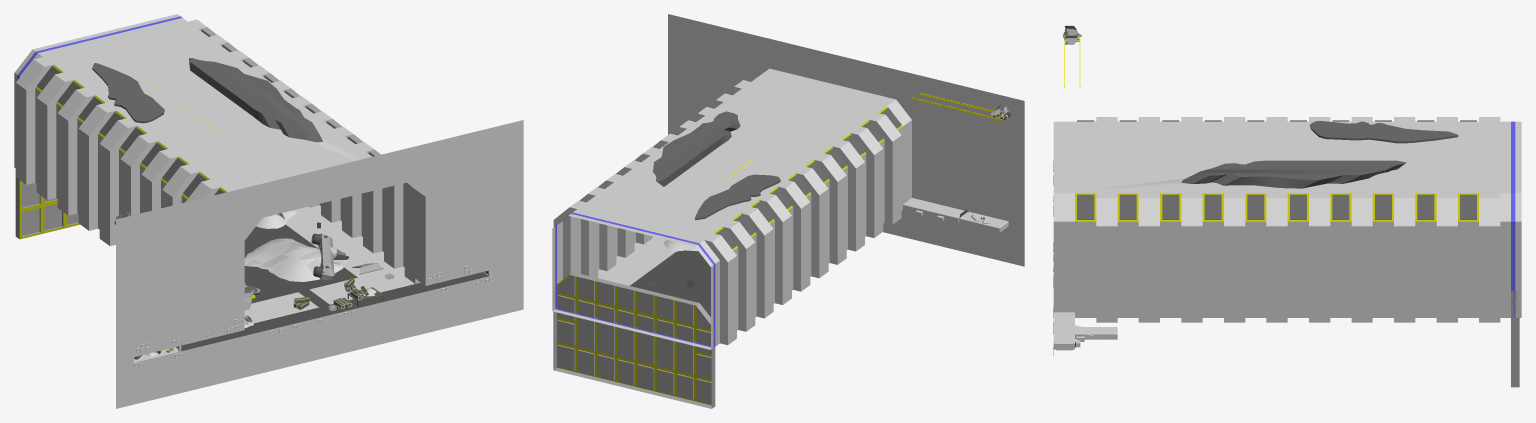
Rendered from Hangar.glb.
3 renders of one model, left to right at view 1: azimuth 30°, elevation 25°; view 2: azimuth 150°, elevation 25°; view 3: azimuth 270°, elevation 25°, orthographic. The views are drawn at different scales.
Parts seen in each view (by area): view 1: _G-Object (Loose Mesh), C-Group#19.012, C-Group#19.013, C-Group#19.006, C-Group#19.005, C-Group#19.015, C-Group47#2.003, C-Group#19, C-Group#19.004, C-Group#19.017, C-Group#19.010, G-Object.023 (+5 smaller); view 2: _G-Object (Loose Mesh), C-Group#19.011, C-Group#19.004, C-Group#19.013, C-Group#19.015, C-Group#19.005, C-Group#19.012, C-Group#19.016, C-Group#19.006, C-Group#19.010, C-Group#19.001, C-Group#14.004 (+12 smaller); view 3: _G-Object (Loose Mesh), C-Group#19.003, C-Group#19.009, C-Group#19.014, C-Group#19, C-Group#19.007, C-Group#19.008, C-Group#19.017, C-Group#19.018, C-Group#19.019, C-Group#19.002, _G-Object.022 (Loose Mesh).
Part boxes in pixels (box(x1,y1,x2,y2)): _G-Object (Loose Mesh): box(14, 14, 523, 408); C-Group#19.012: box(57, 90, 105, 215); C-Group#19.013: box(36, 75, 84, 200); C-Group#19.006: box(78, 105, 126, 230); C-Group#19.005: box(16, 59, 63, 184); C-Group#19.015: box(99, 120, 147, 245); C-Group47#2.003: box(244, 238, 347, 281); C-Group#19: box(394, 182, 415, 283); C-Group#19.004: box(120, 136, 168, 216); C-Group#19.017: box(366, 149, 394, 268); C-Group#19.010: box(141, 151, 188, 212); G-Object.023: box(19, 180, 42, 239); _G-Object (Loose Mesh): box(552, 14, 1024, 349); C-Group#19.011: box(851, 119, 884, 237); C-Group#19.004: box(796, 160, 829, 278); C-Group#19.013: box(723, 213, 756, 331); C-Group#19.015: box(778, 173, 811, 291); C-Group#19.005: box(704, 227, 738, 345); C-Group#19.012: box(741, 200, 774, 318); C-Group#19.016: box(869, 106, 902, 224); C-Group#19.006: box(759, 186, 793, 304); C-Group#19.010: box(814, 146, 847, 264); C-Group#19.001: box(832, 133, 866, 251); C-Group#14.004: box(596, 281, 616, 381); _G-Object (Loose Mesh): box(1053, 117, 1521, 350); C-Group#19.003: box(1202, 193, 1245, 322); C-Group#19.009: box(1372, 193, 1415, 322); C-Group#19.014: box(1287, 193, 1330, 322); C-Group#19: box(1075, 193, 1117, 322); C-Group#19.007: box(1245, 193, 1287, 322); C-Group#19.008: box(1415, 193, 1457, 322); C-Group#19.017: box(1117, 193, 1159, 322); C-Group#19.018: box(1160, 193, 1202, 322); C-Group#19.019: box(1330, 193, 1372, 322); C-Group#19.002: box(1458, 193, 1500, 322); _G-Object.022 (Loose Mesh): box(1511, 291, 1519, 387).
Bounding box in the file's own units: 450 × 228 × 440.
